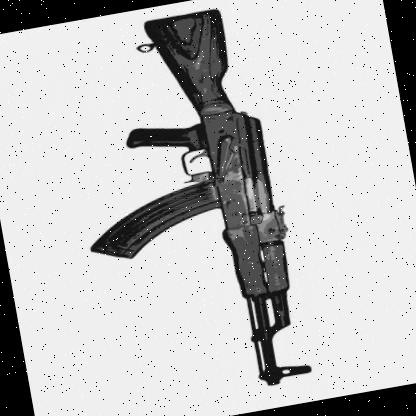rifle: (44, 0, 336, 407)
